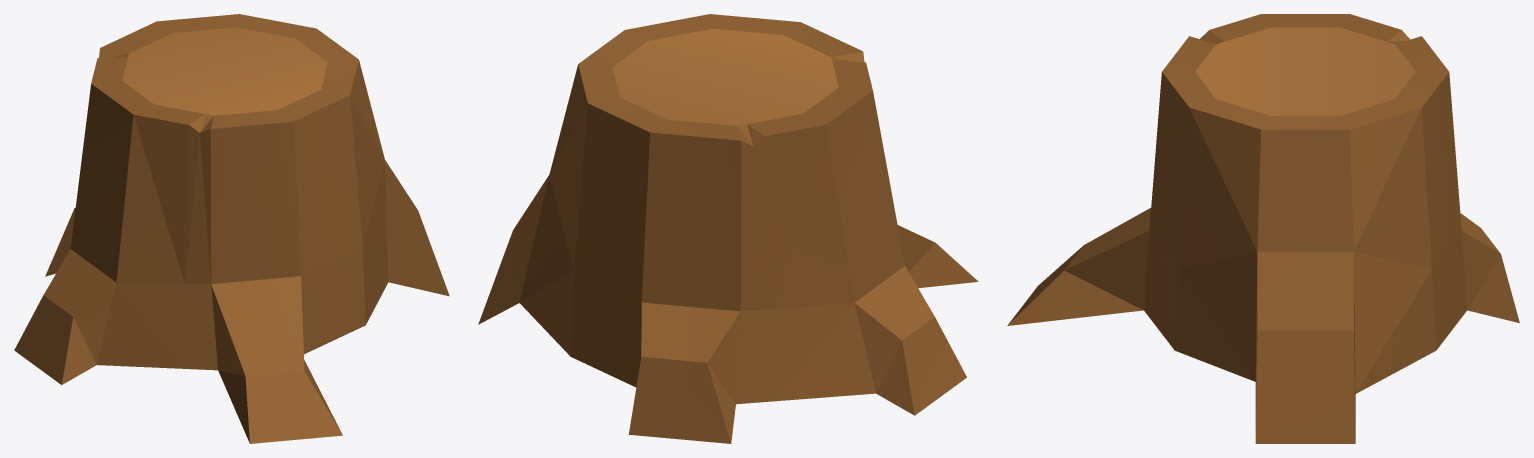
Rendered from Tree_Trunk_01.fbx.
3 views of the same model, side by side, from view 1: azimuth 30°, elevation 25°; view 2: azimuth 150°, elevation 25°; view 3: azimuth 270°, elevation 25° (orthographic). The views are drawn at different scales.
Parts seen in each view (by area): view 1: Tree; view 2: Tree; view 3: Tree.
Part boxes in pixels (bbox=[...]): Tree: bbox=[14, 14, 449, 443]; Tree: bbox=[478, 14, 978, 443]; Tree: bbox=[1007, 14, 1519, 443].
Bounding box in the file's own units: 2.94 × 1.84 × 3.17.
